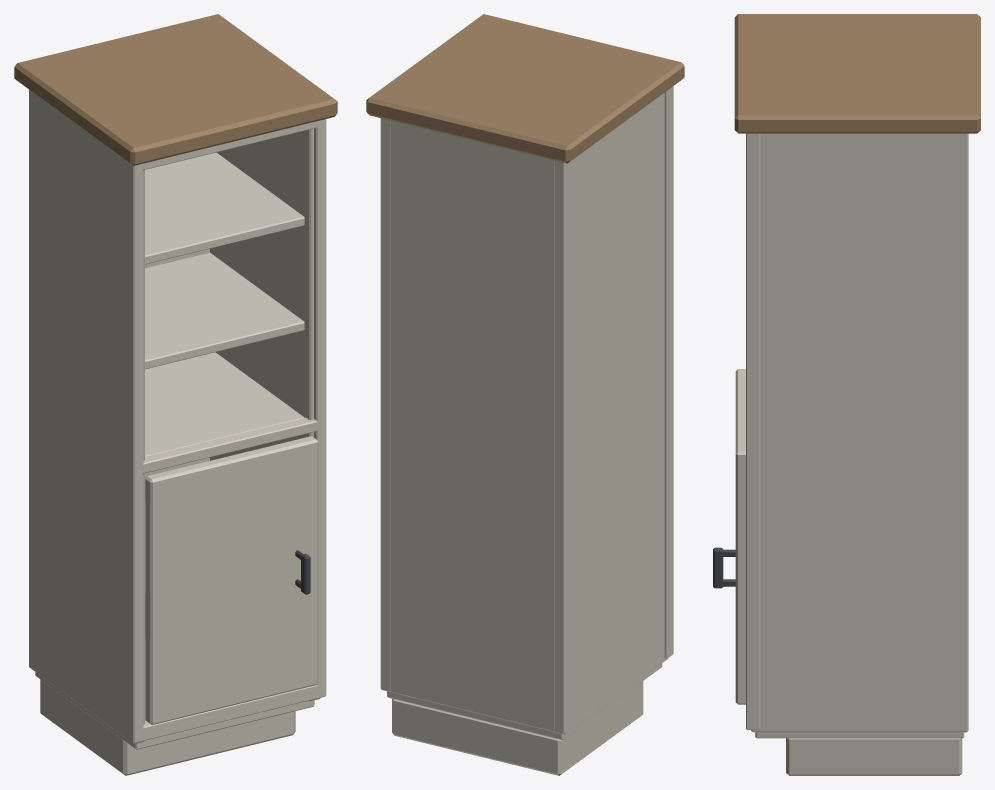
3 renders of one model, left to right at view 1: azimuth 30°, elevation 25°; view 2: azimuth 150°, elevation 25°; view 3: azimuth 270°, elevation 25°, orthographic. The views are drawn at different scales.
Parts seen in each view (by area): view 1: Side wall, Left door, Crown cap, Continuous front frame, Side wall.001, Storage shelf.002, Storage shelf.003, Storage shelf.001, Recessed plinth, Cabinet floor, Rear panel; view 2: Rear panel, Side wall, Crown cap, Recessed plinth, Side wall.001, Continuous front frame, Cabinet floor; view 3: Side wall.001, Crown cap, Continuous front frame, Recessed plinth, Left door, Cabinet floor.
Part boxes in pixels (bbox=[...]): Side wall: bbox=[29, 90, 144, 743]; Left door: bbox=[145, 436, 318, 724]; Crown cap: bbox=[14, 14, 337, 165]; Continuous front frame: bbox=[127, 119, 326, 743]; Side wall.001: bbox=[210, 128, 320, 701]; Storage shelf.002: bbox=[145, 252, 304, 369]; Storage shelf.003: bbox=[145, 152, 304, 264]; Storage shelf.001: bbox=[145, 352, 304, 456]; Recessed plinth: bbox=[40, 679, 295, 775]; Cabinet floor: bbox=[35, 637, 314, 749]; Rear panel: bbox=[145, 249, 209, 636]; Rear panel: bbox=[390, 120, 554, 732]; Side wall: bbox=[554, 92, 668, 734]; Crown cap: bbox=[366, 14, 684, 163]; Recessed plinth: bbox=[392, 681, 643, 775]; Side wall.001: bbox=[380, 118, 390, 692]; Continuous front frame: bbox=[664, 86, 673, 658]; Cabinet floor: bbox=[387, 663, 662, 739]; Side wall.001: bbox=[751, 133, 968, 732]; Crown cap: bbox=[734, 14, 980, 133]; Continuous front frame: bbox=[746, 133, 760, 729]; Recessed plinth: bbox=[786, 738, 962, 775]; Left door: bbox=[735, 369, 745, 704]; Cabinet floor: bbox=[755, 732, 964, 738].
Bounding box in the file's own units: 0.6 × 1.8 × 0.6525.
